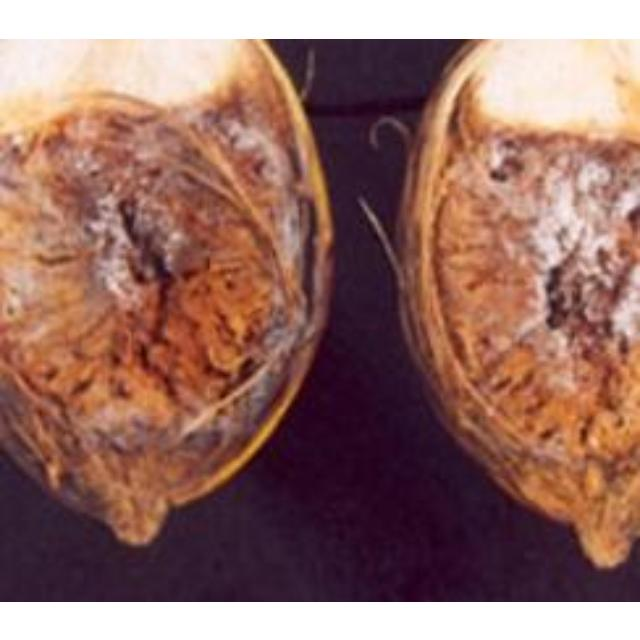damaged: (0, 38, 330, 542), (388, 38, 637, 560)
